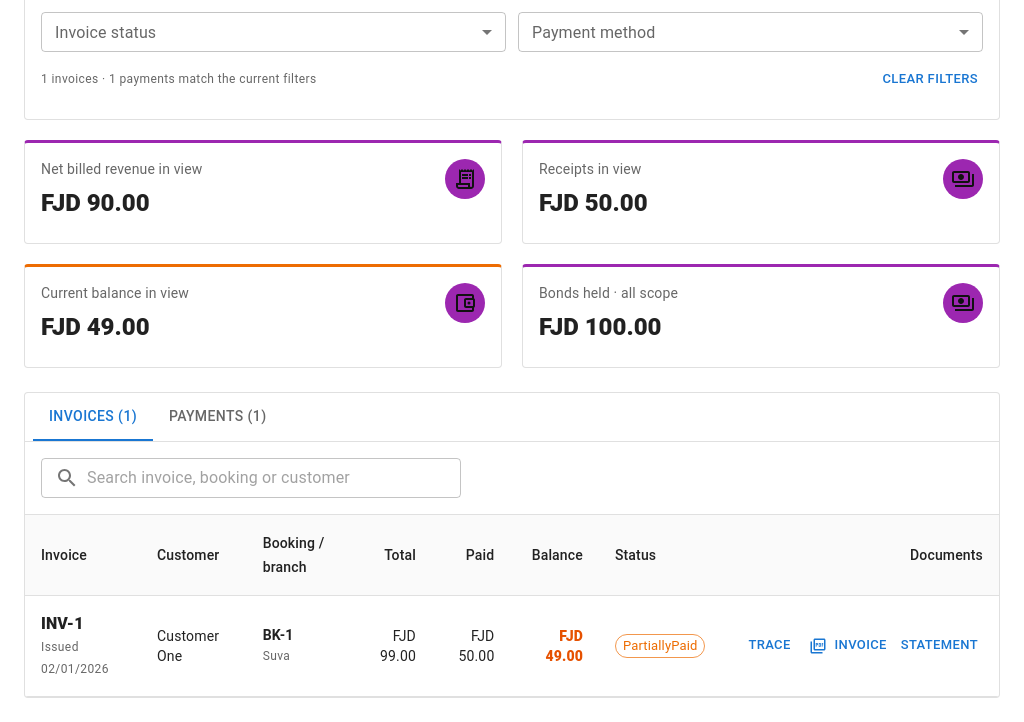
it: shows a valid trail without invoices, credits or charges
The width and height of the screenshot is (1024, 722).
(page scrolled)
Click the button "Trace" at (770, 646), box [738, 630, 802, 661]
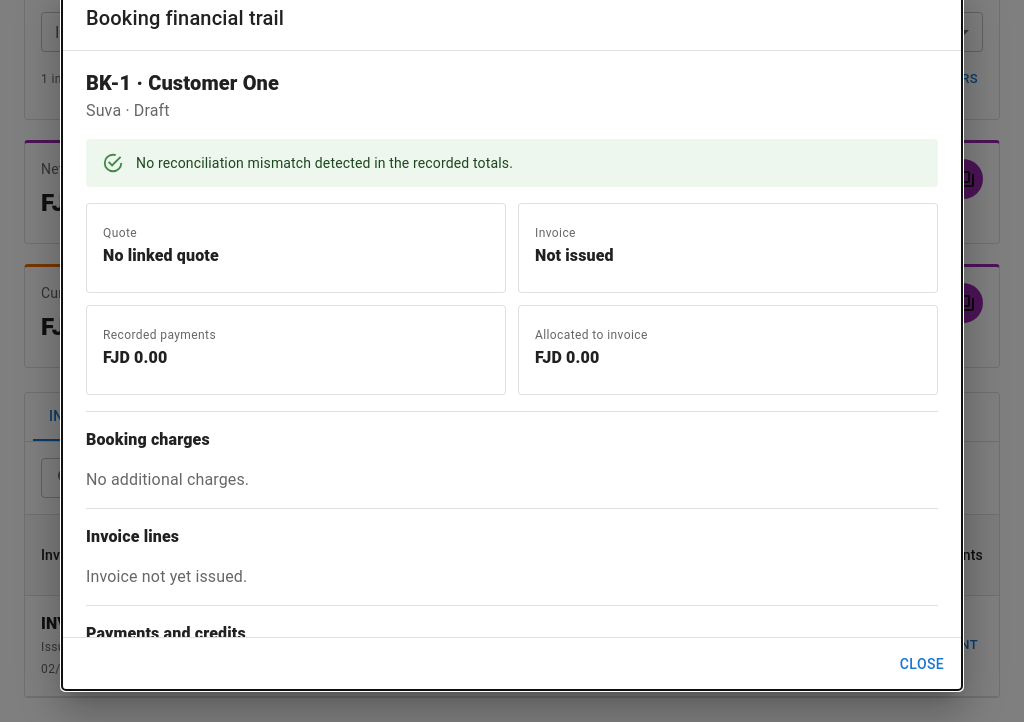
Now the text "No reconciliation mismatch detected in the recorded totals." is shown, box [136, 155, 513, 171]
Now the text "Invoice not yet issued." is shown, box [86, 567, 247, 586]
